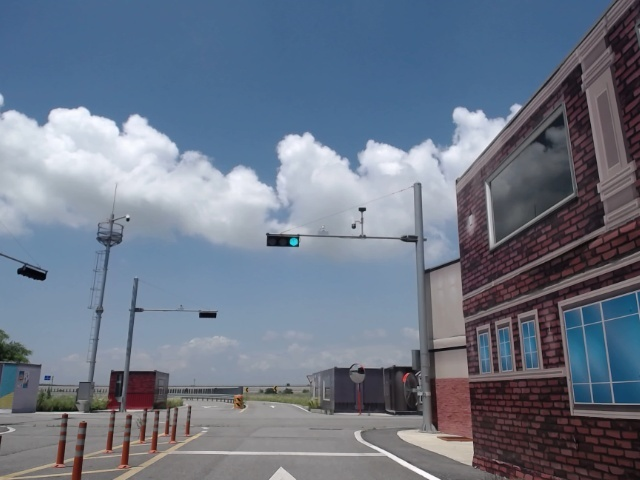green_3: (268, 236, 299, 247)
